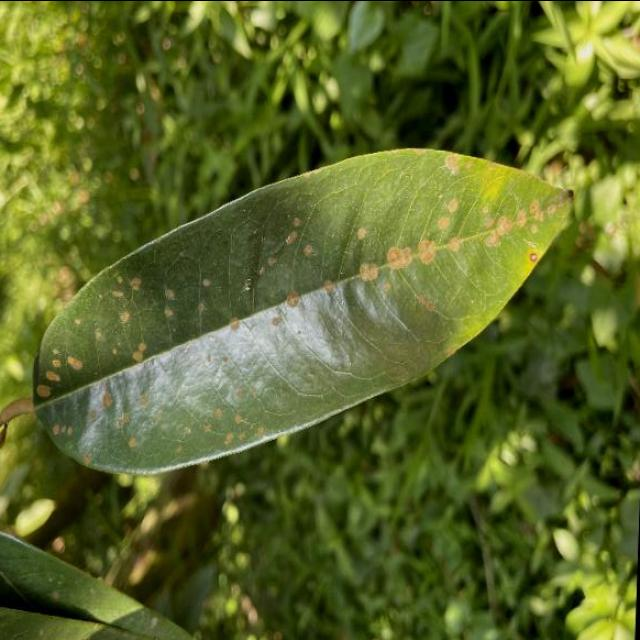Algal Leaf Spot: (19, 128, 576, 498)
